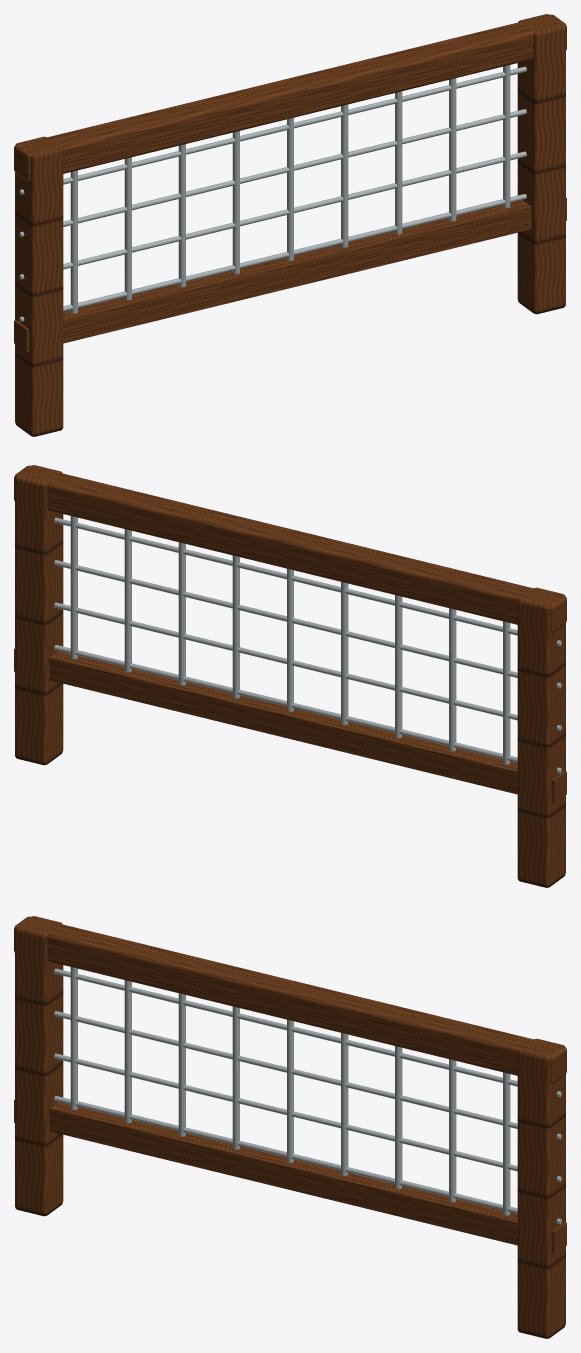
File: modular-survival-base-builder-mesh-guardrail-8e7108c4__24231.glb
The picture shows the model from 3 angles, top to bottom: view 1: azimuth 30°, elevation 25°; view 2: azimuth 150°, elevation 25°; view 3: azimuth 330°, elevation 25°; orthographic projection.
Parts seen in each view (by area): view 1: mesh-guardrail; view 2: mesh-guardrail; view 3: mesh-guardrail.
Boxes of the visible parts, box(x1,y1,x2,y2) form: mesh-guardrail: box(14, 14, 566, 436); mesh-guardrail: box(14, 465, 566, 887); mesh-guardrail: box(14, 916, 566, 1338).
Bounding box in the file's own units: 2 × 1 × 0.1199.
Materials: 2 (1 with a texture image).
